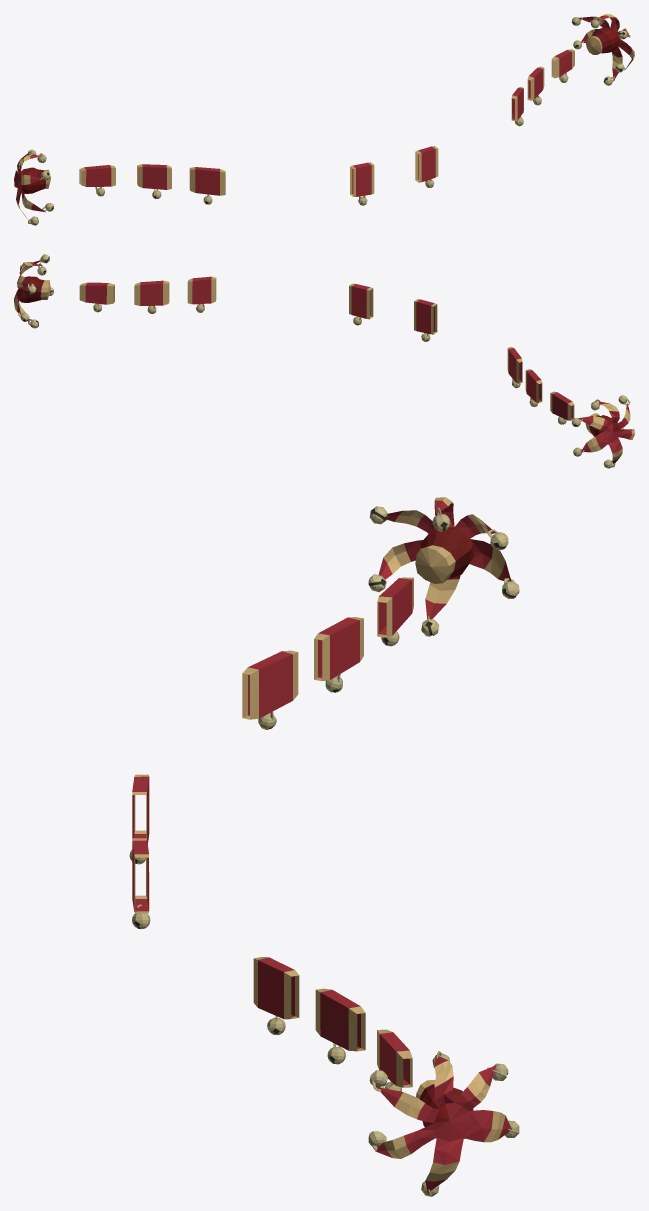
File: largeCrossbowJesterTip.glb
3 renders of one model, top to bottom at view 1: azimuth 30°, elevation 25°; view 2: azimuth 150°, elevation 25°; view 3: azimuth 270°, elevation 25°, orthographic. The views are drawn at different scales.
Visible parts, largest first — view 1: largeCrossbowJesterTip; view 2: largeCrossbowJesterTip; view 3: largeCrossbowJesterTip.
Part boxes in pixels (x1,y1,x2,y2): largeCrossbowJesterTip: (14, 14, 634, 225); largeCrossbowJesterTip: (14, 254, 634, 468); largeCrossbowJesterTip: (129, 497, 519, 1196).
Bounding box in the file's own units: 1.33 × 0.1428 × 0.369.
